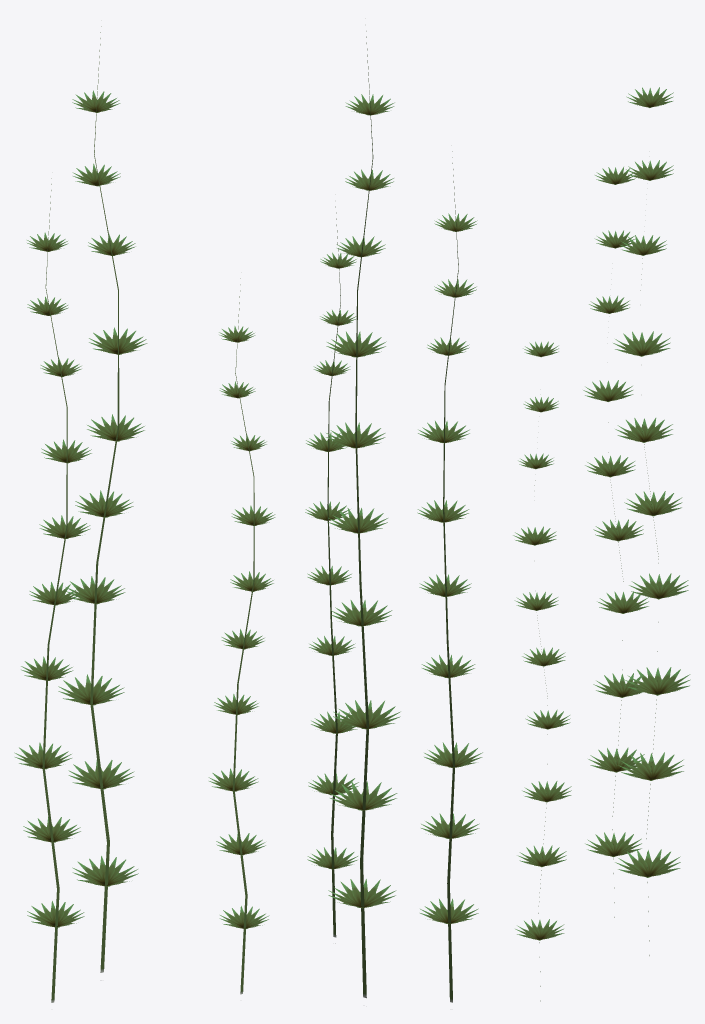
File: SeaWeed_01_Group.FBX
3 views of the same model, side by side, from view 1: azimuth 30°, elevation 25°; view 2: azimuth 150°, elevation 25°; view 3: azimuth 270°, elevation 25° (orthographic). The views are drawn at different scales.
Visible parts, largest first — view 1: SeaWeed_01_Group; view 2: SeaWeed_01_Group; view 3: SeaWeed_01_Group.
Boxes of the visible parts, left/top/right/bottom form: SeaWeed_01_Group: left=14, top=26, right=275, bottom=1002; SeaWeed_01_Group: left=305, top=31, right=482, bottom=1002; SeaWeed_01_Group: left=513, top=87, right=690, bottom=1001.
Bounding box in the file's own units: 35.64 × 151 × 25.56.
